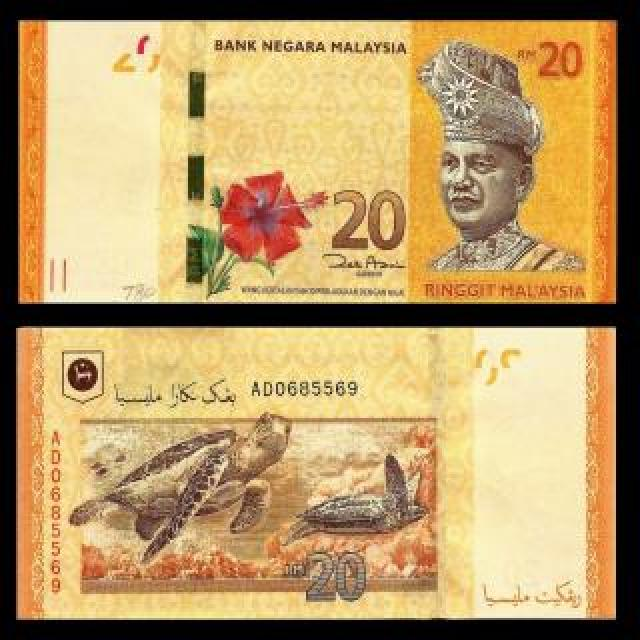20 Ringgit: (14, 12, 621, 307), (14, 326, 614, 620)
